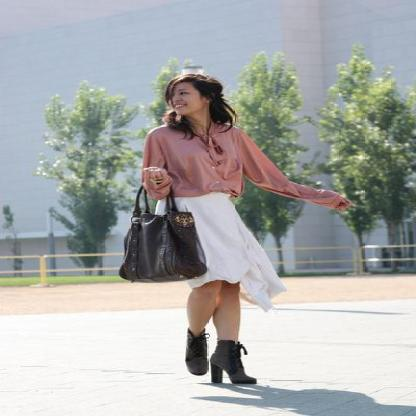bag: (118, 208, 206, 282)
shirt: (138, 126, 336, 205)
shoe: (185, 341, 257, 385)
skirt: (154, 192, 278, 313)
